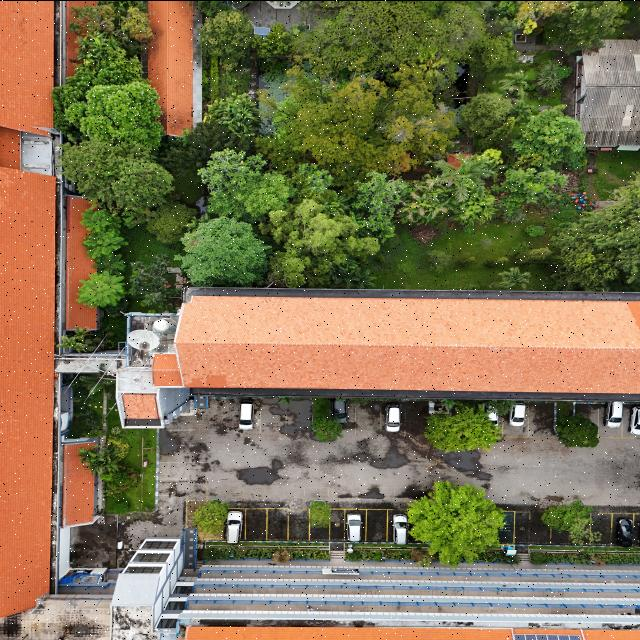Tree: (402, 481, 507, 563), (176, 213, 266, 286), (420, 401, 506, 453), (74, 206, 134, 260), (72, 266, 134, 310), (197, 12, 257, 54), (300, 394, 350, 443), (120, 1, 154, 43)
